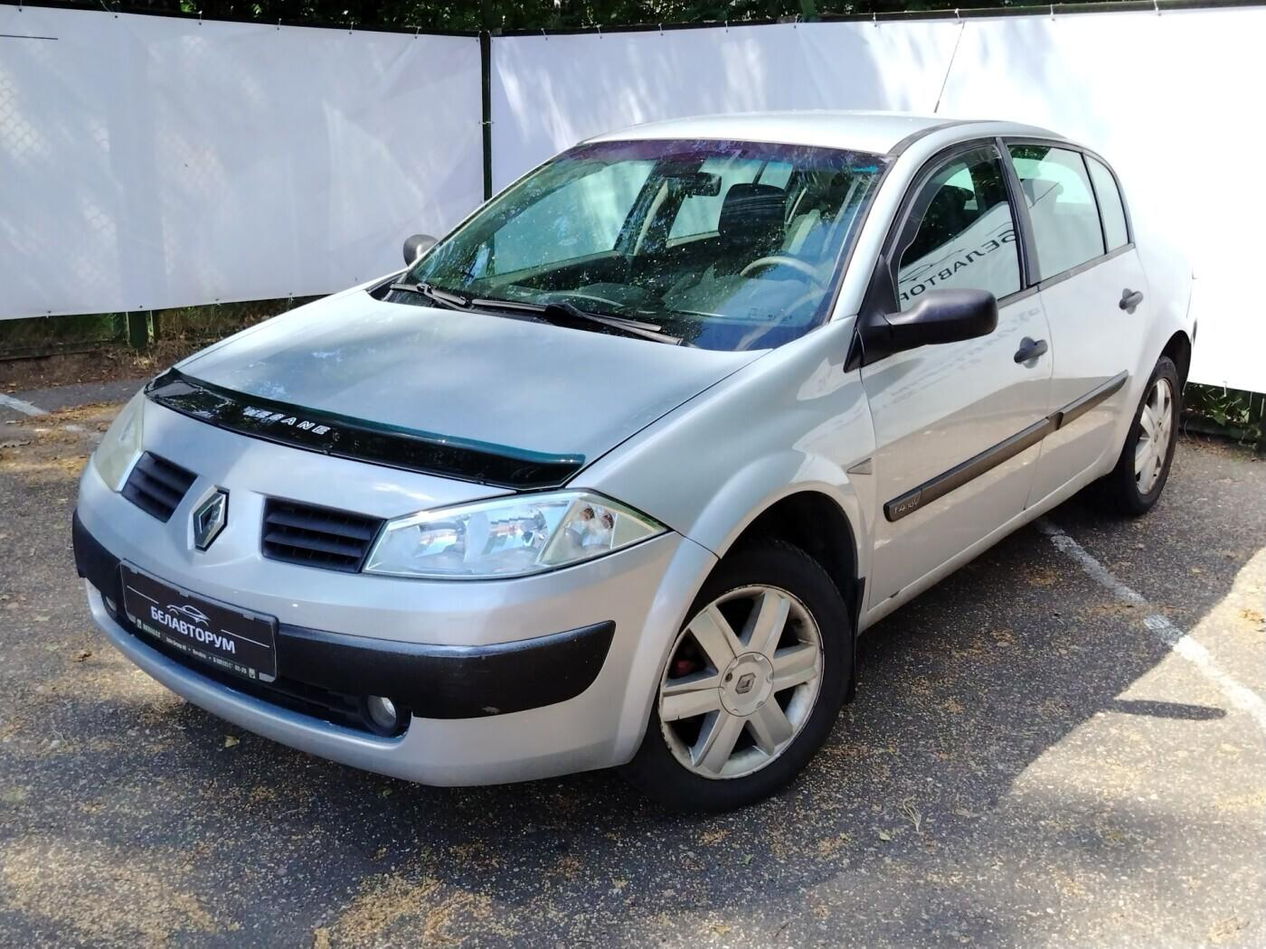Megane_2002-2006: (70, 96, 1201, 813)
